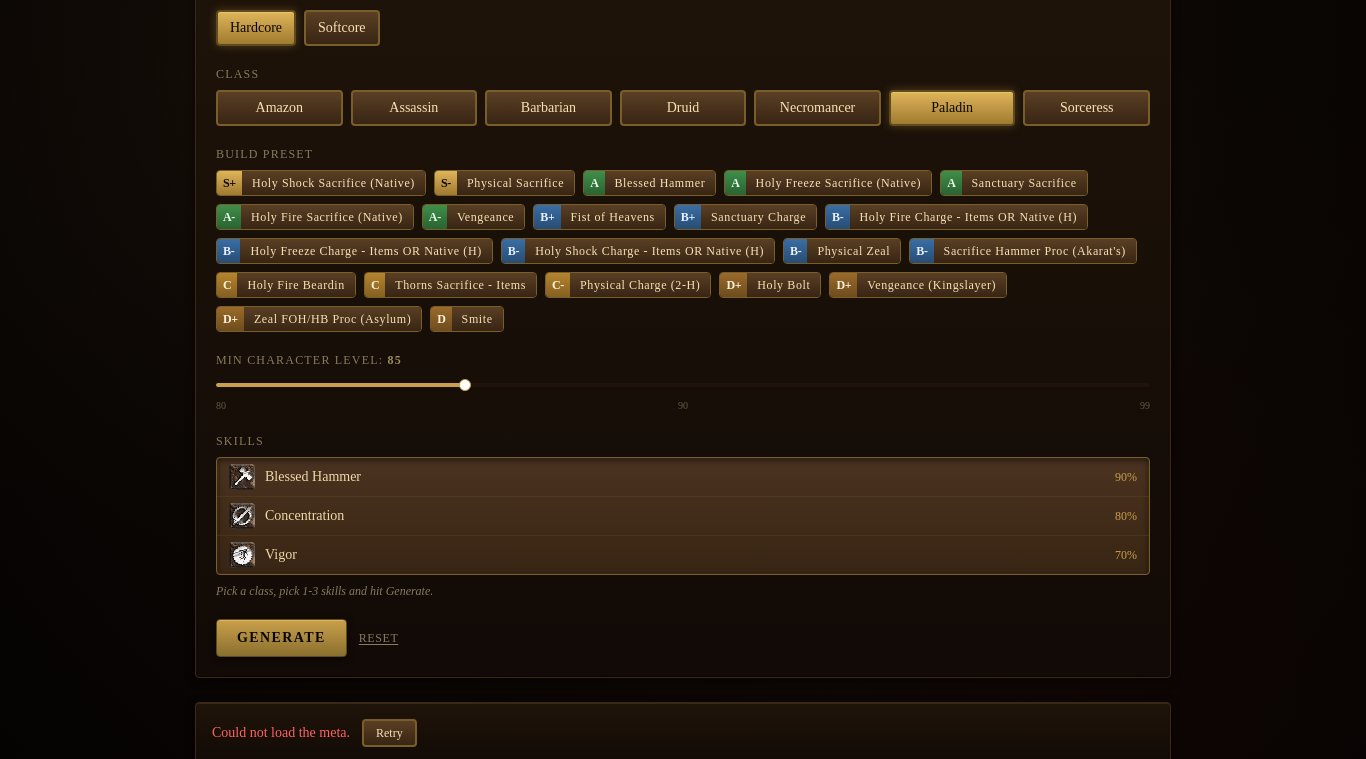
Meta page › shows a retry when the request fails
(page scrolled)
Expected: the text "Could not load the meta." is shown, x1=212 y1=723 x2=350 y2=743
What coordinates should you click on to do the following:
click the button "Retry"
I would click on:
 (389, 733)
Its box is x1=362 y1=719 x2=417 y2=747.
Wait 400 ms
(page scrolled)
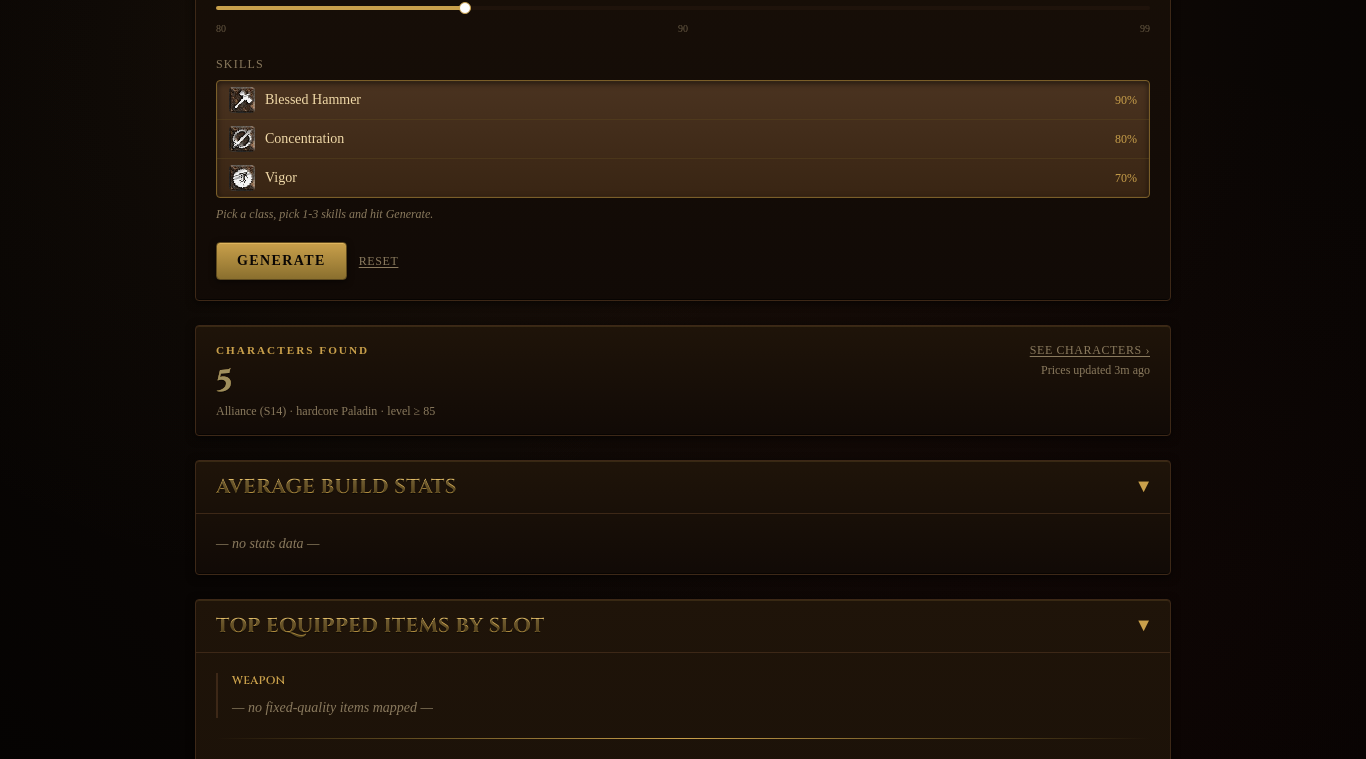
Expected: the text with test id "cohort-count" reads "5", x1=216 y1=361 x2=235 y2=401
